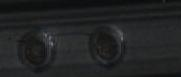joints: (15, 26, 54, 70), (88, 24, 125, 64)
